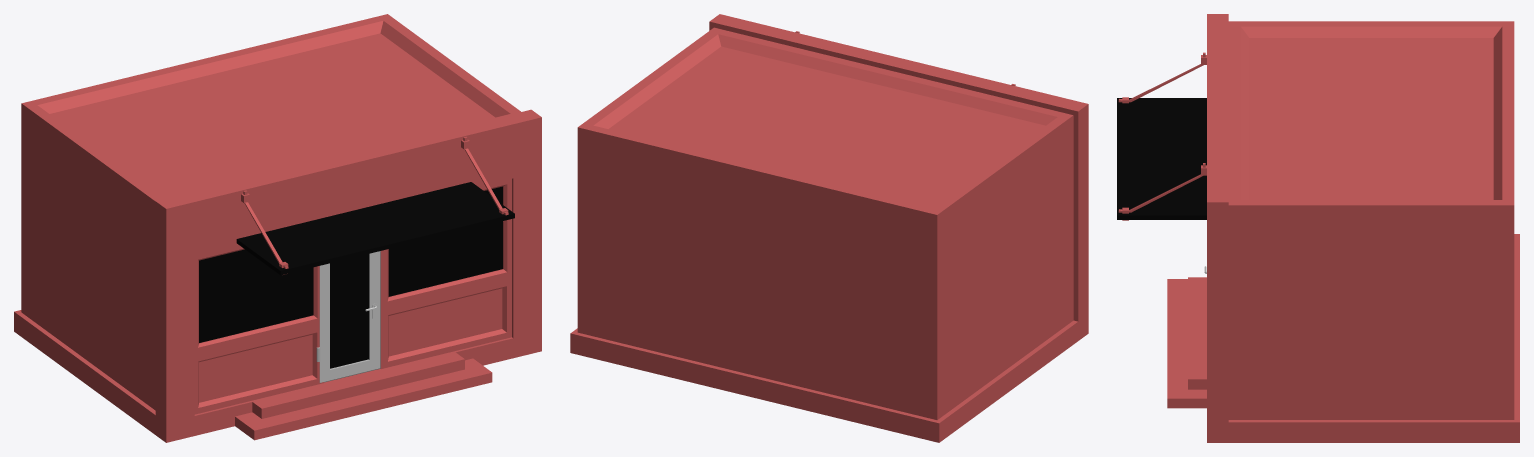
Rendered from SM_shop_2.fbx.
3 renders of one model, left to right at view 1: azimuth 30°, elevation 25°; view 2: azimuth 150°, elevation 25°; view 3: azimuth 270°, elevation 25°, orthographic. The views are drawn at different scales.
Visible parts, largest first — view 1: Cube_26, Cylinder_9; view 2: Cube_26; view 3: Cube_26.
Part boxes in pixels (x1,y1,x2,y2): Cube_26: (14,14,541,442); Cylinder_9: (316,251,380,382); Cube_26: (570,14,1088,442); Cube_26: (1117,14,1519,442).
Bounding box in the file's own units: 558 × 332 × 504.
